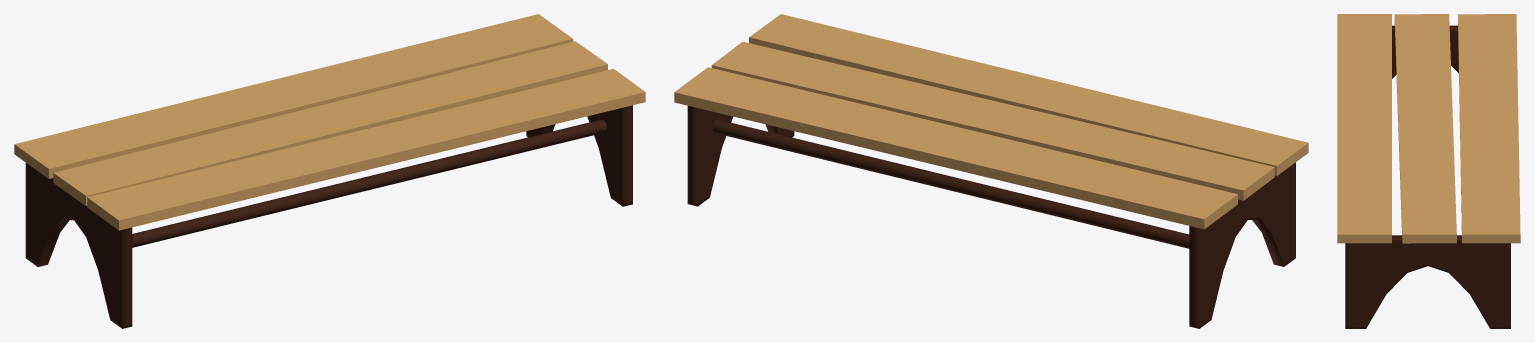
File: WoodenBench.fbx
3 renders of one model, left to right at view 1: azimuth 30°, elevation 25°; view 2: azimuth 150°, elevation 25°; view 3: azimuth 270°, elevation 25°, orthographic. The views are drawn at different scales.
Parts seen in each view (by area): view 1: Bench_LOD0; view 2: Bench_LOD0; view 3: Bench_LOD0.
Part boxes in pixels (left/top/right/bottom): Bench_LOD0: left=14, top=14, right=645, bottom=328; Bench_LOD0: left=674, top=14, right=1308, bottom=328; Bench_LOD0: left=1337, top=14, right=1520, bottom=328.
Size of what is drawn, in the model's own units: 313 by 64.53 by 110.
